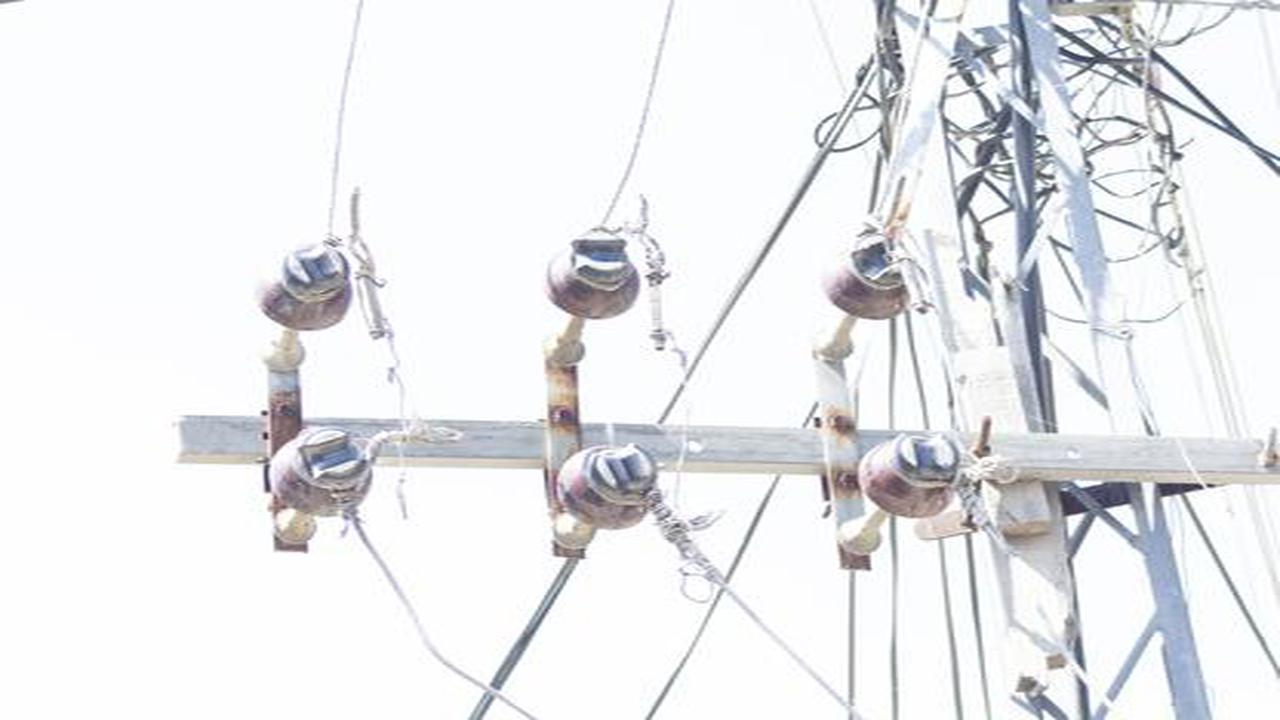insulator_pin: (855, 429, 965, 529), (267, 422, 373, 525), (552, 437, 661, 537), (537, 218, 642, 319), (822, 232, 922, 328), (257, 235, 355, 329)
